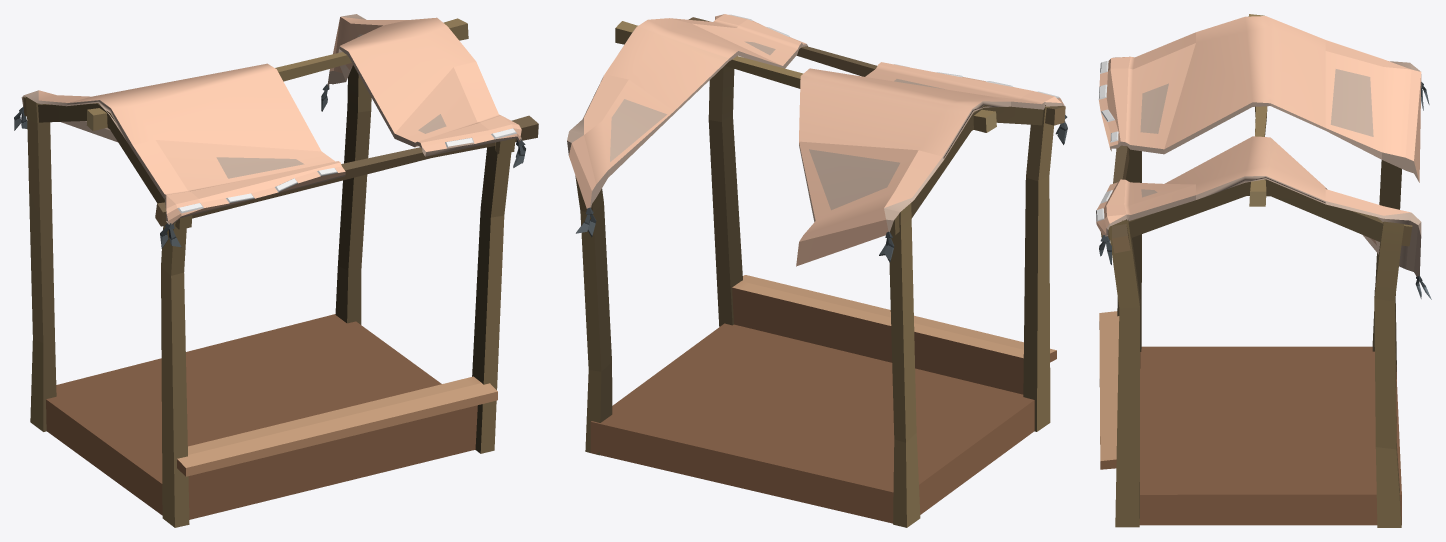
File: MarketStall_whit_broken.fbx
3 views of the same model, side by side, from view 1: azimuth 30°, elevation 25°; view 2: azimuth 150°, elevation 25°; view 3: azimuth 270°, elevation 25° (orthographic). The views are drawn at different scales.
Parts seen in each view (by area): view 1: MarketStall_whit_broken; view 2: MarketStall_whit_broken; view 3: MarketStall_whit_broken.
Part boxes in pixels (bbox=[...]): MarketStall_whit_broken: bbox=[14, 14, 538, 527]; MarketStall_whit_broken: bbox=[567, 14, 1067, 527]; MarketStall_whit_broken: bbox=[1096, 14, 1431, 527].
Size of the model in its own units: 3.21 by 3.02 by 2.55.
